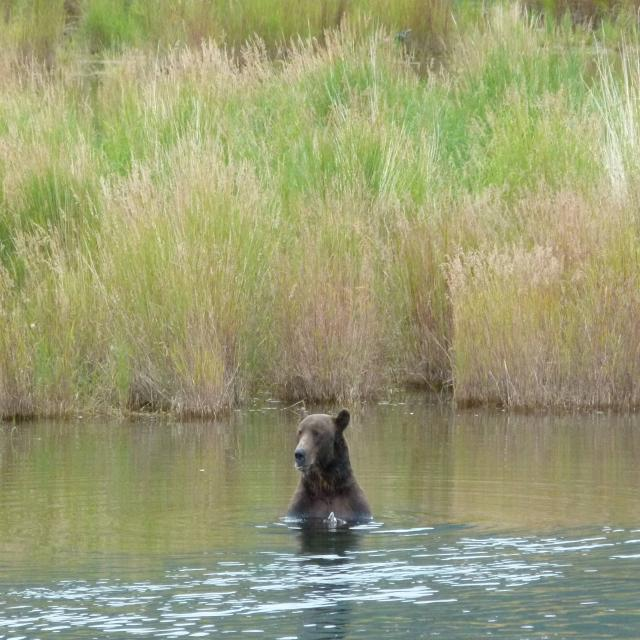bear face: (292, 406, 371, 521)
